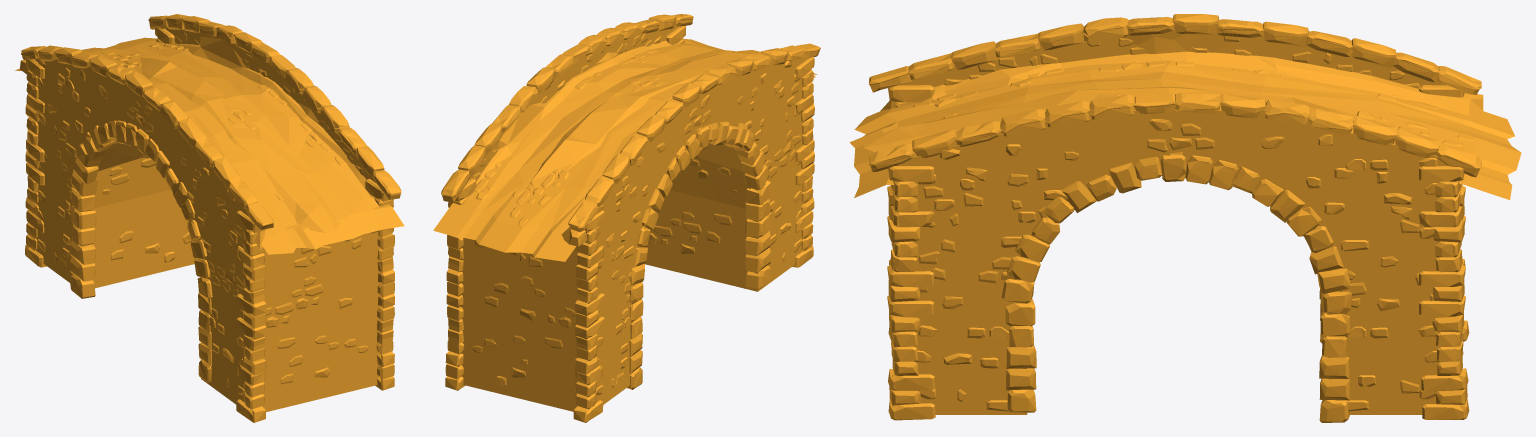
The model's file is SM_Bridge_Stone_A_10m.fbx.
3 renders of one model, left to right at view 1: azimuth 30°, elevation 25°; view 2: azimuth 150°, elevation 25°; view 3: azimuth 270°, elevation 25°, orthographic. The views are drawn at different scales.
Parts seen in each view (by area): view 1: bridge-stone-a-10m; view 2: bridge-stone-a-10m; view 3: bridge-stone-a-10m.
Part boxes in pixels (x1=…): bridge-stone-a-10m: x1=15, y1=14, x2=404, y2=422; bridge-stone-a-10m: x1=433, y1=14, x2=820, y2=422; bridge-stone-a-10m: x1=850, y1=14, x2=1521, y2=422.
Size of the model in its own units: 3.81 by 6.41 by 12.03.
